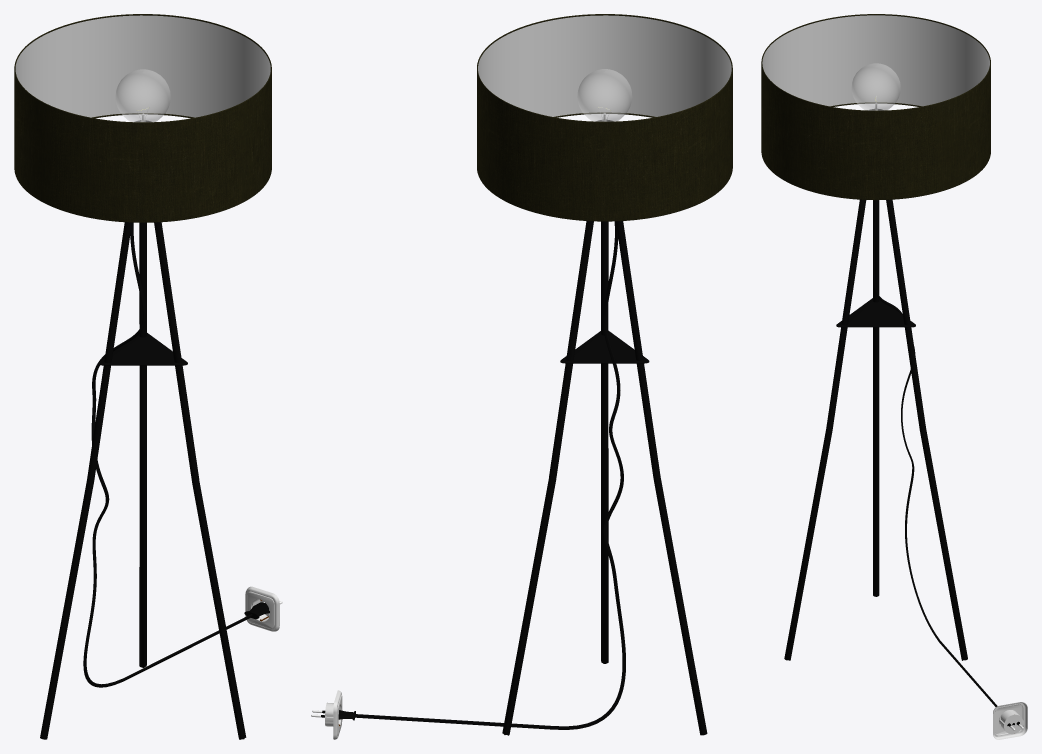
Rendered from floor-lamp-2k.glb.
3 renders of one model, left to right at view 1: azimuth 30°, elevation 25°; view 2: azimuth 150°, elevation 25°; view 3: azimuth 270°, elevation 25°, orthographic. The views are drawn at different scales.
Parts seen in each view (by area): view 1: Lamp-Shade_0, Legs_2, Cable_4, LightBulb_5, Triangle-Leg-Connector_3, Electrical-Plug_6; view 2: Lamp-Shade_0, Legs_2, Cable_4, LightBulb_5, Triangle-Leg-Connector_3; view 3: Lamp-Shade_0, Legs_2, LightBulb_5, Cable_4, Triangle-Leg-Connector_3, Electrical-Plug_6.
Part boxes in pixels (box(x1,y1,x2,y2)): Lamp-Shade_0: box(14, 14, 271, 222); Legs_2: box(40, 222, 246, 739); Cable_4: box(83, 222, 282, 687); LightBulb_5: box(115, 69, 170, 122); Triangle-Leg-Connector_3: box(98, 333, 187, 365); Electrical-Plug_6: box(245, 586, 279, 631); Lamp-Shade_0: box(477, 14, 732, 221); Legs_2: box(502, 221, 707, 735); Cable_4: box(311, 221, 625, 729); LightBulb_5: box(577, 69, 632, 121); Triangle-Leg-Connector_3: box(560, 330, 649, 363); Lamp-Shade_0: box(761, 14, 990, 200); Legs_2: box(784, 199, 967, 660); LightBulb_5: box(851, 63, 900, 110); Cable_4: box(873, 200, 1023, 730); Triangle-Leg-Connector_3: box(836, 298, 915, 327); Electrical-Plug_6: box(993, 702, 1027, 739).
Size of the model in its own units: 0.8295 by 1.6 by 0.6536.
11 materials, 1 textured.
